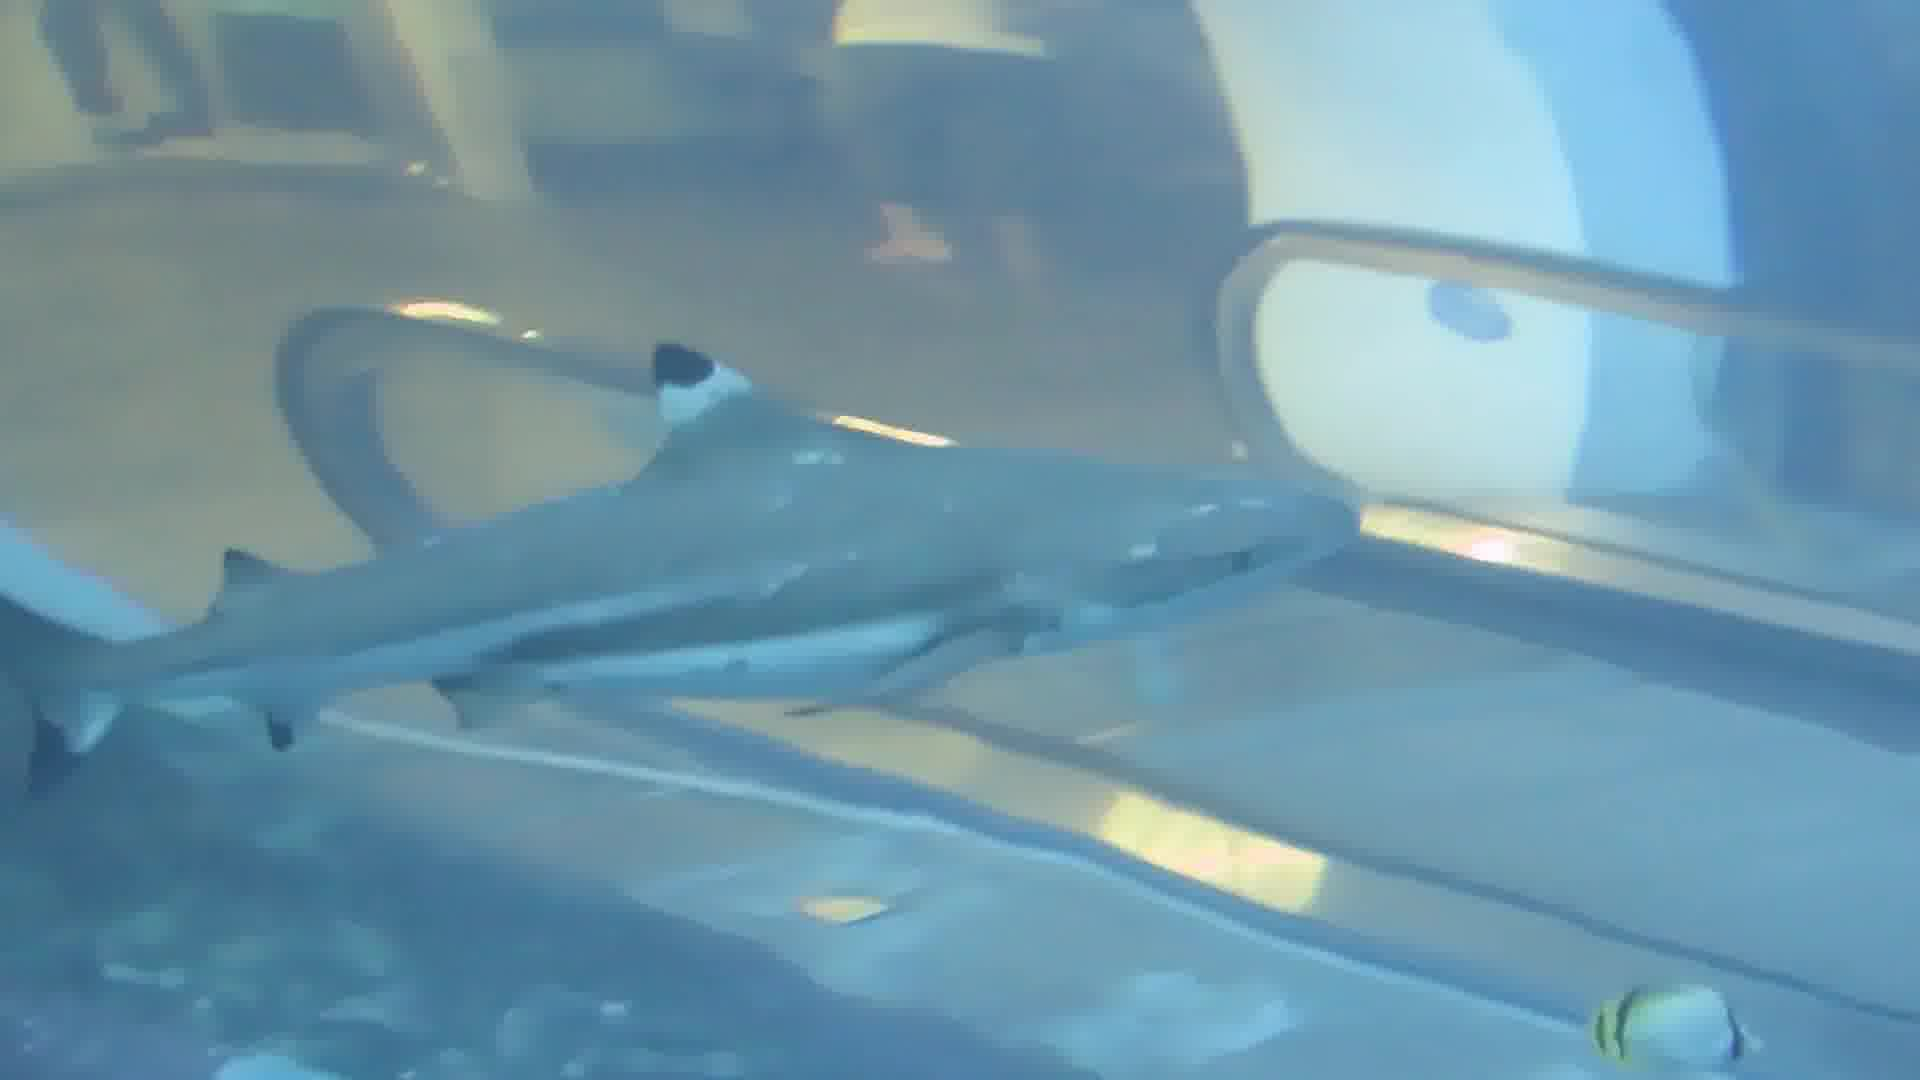Carcharhinus melanopterus: (1, 335, 1379, 771)
